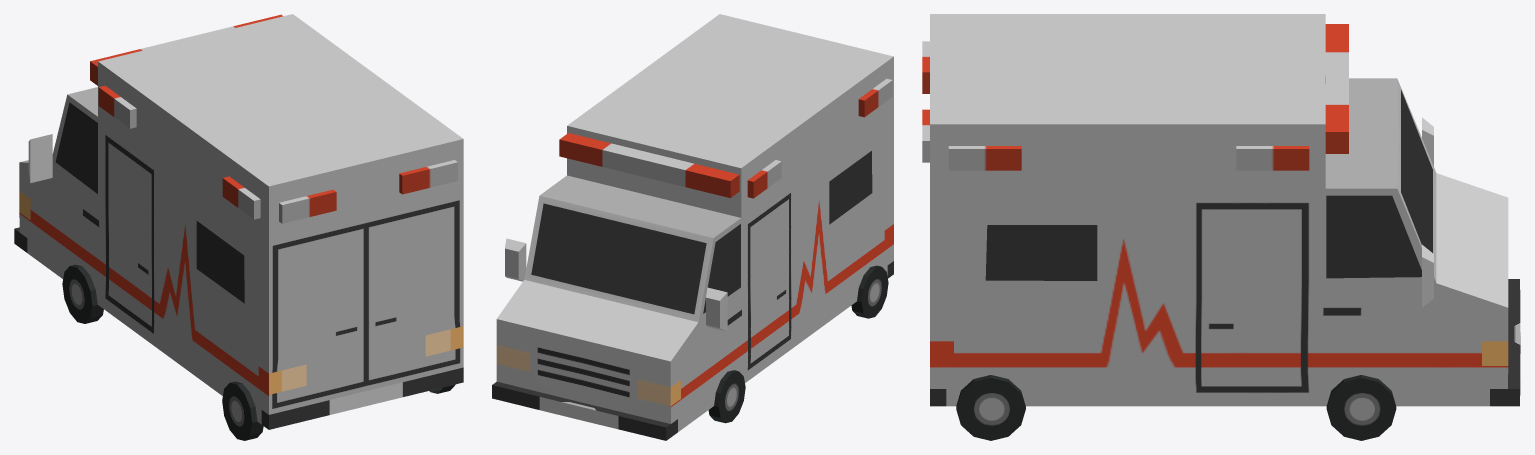
The model's file is ambo_mesh.fbx.
3 views of the same model, side by side, from view 1: azimuth 30°, elevation 25°; view 2: azimuth 150°, elevation 25°; view 3: azimuth 270°, elevation 25° (orthographic). The views are drawn at different scales.
Visible parts, largest first — view 1: ambo_mesh; view 2: ambo_mesh; view 3: ambo_mesh.
Part boxes in pixels (<box>): ambo_mesh: <box>14,14,463,440</box>; ambo_mesh: <box>492,14,893,440</box>; ambo_mesh: <box>922,14,1520,440</box>.
Bounding box in the file's own units: 3.44 × 3.6 × 6.21.
